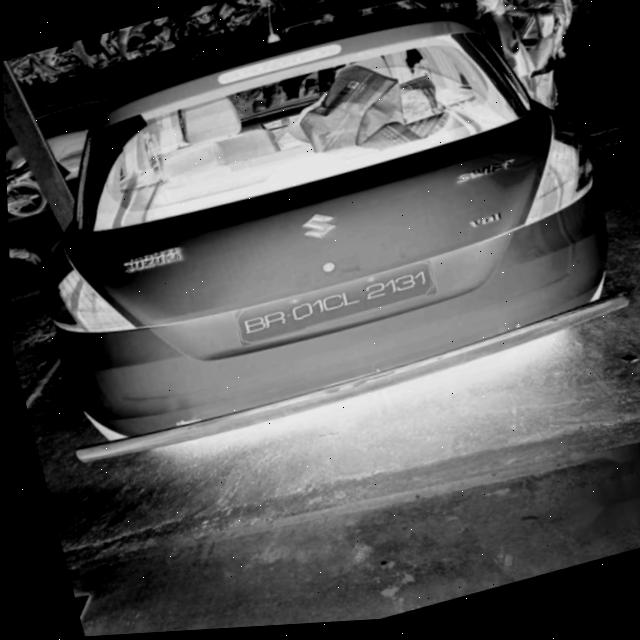Non_registered: (229, 265, 436, 354)
